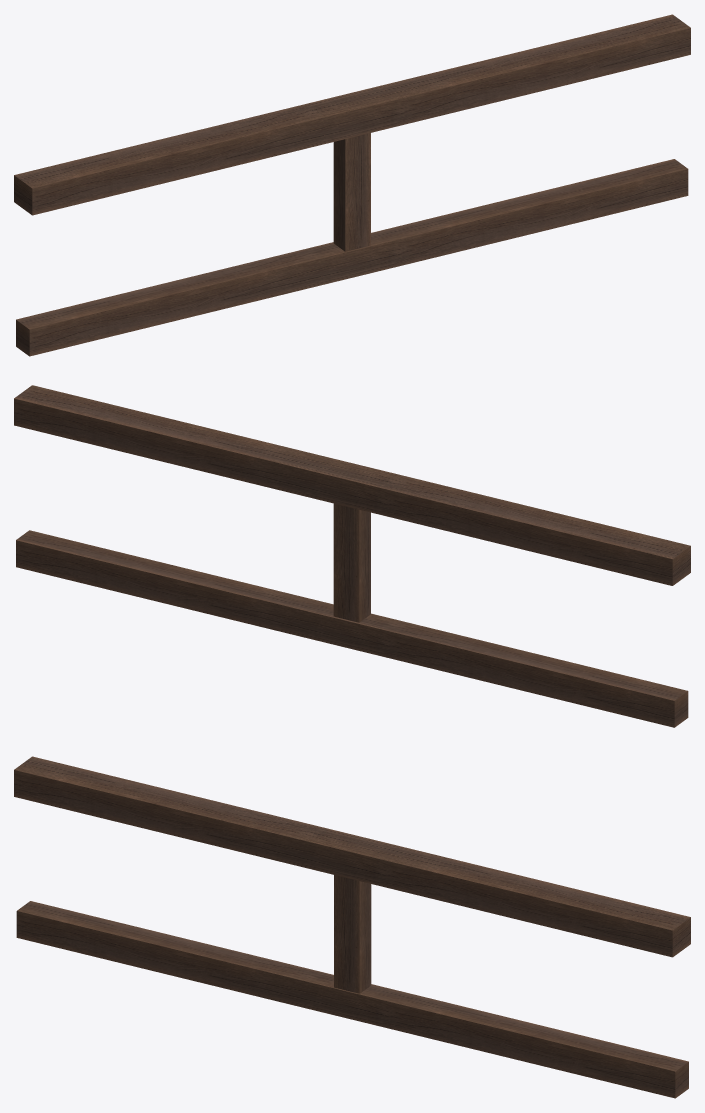
Rendered from yane_frame_4t_1f_5.fbx.
3 views of the same model, one above another, from view 1: azimuth 30°, elevation 25°; view 2: azimuth 150°, elevation 25°; view 3: azimuth 330°, elevation 25° (orthographic).
Visible parts, largest first — view 1: yane_frame_4t_1f_5; view 2: yane_frame_4t_1f_5; view 3: yane_frame_4t_1f_5.
Boxes of the visible parts, bbox=[...] form: yane_frame_4t_1f_5: bbox=[14, 14, 690, 356]; yane_frame_4t_1f_5: bbox=[14, 385, 690, 727]; yane_frame_4t_1f_5: bbox=[14, 756, 690, 1098].
Bounding box in the file's own units: 440 × 109 × 21.21.
